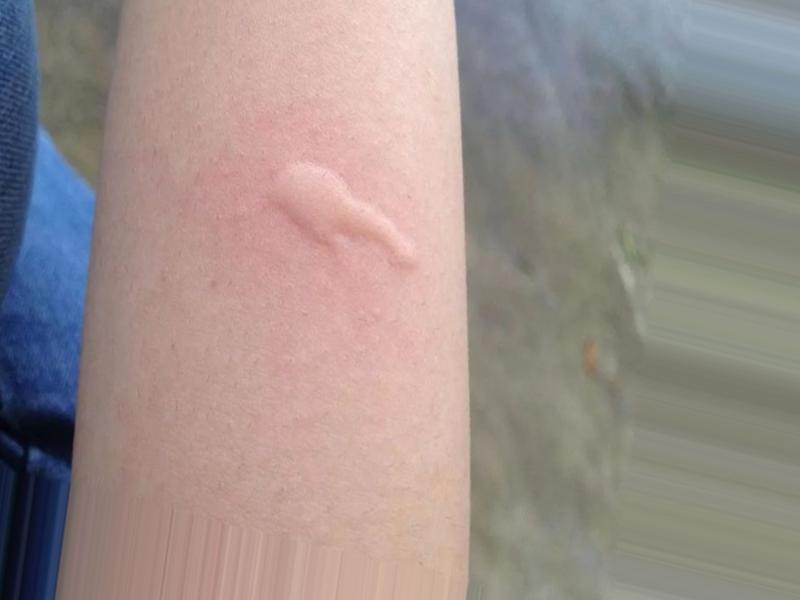Reupload: (253, 141, 434, 303)
